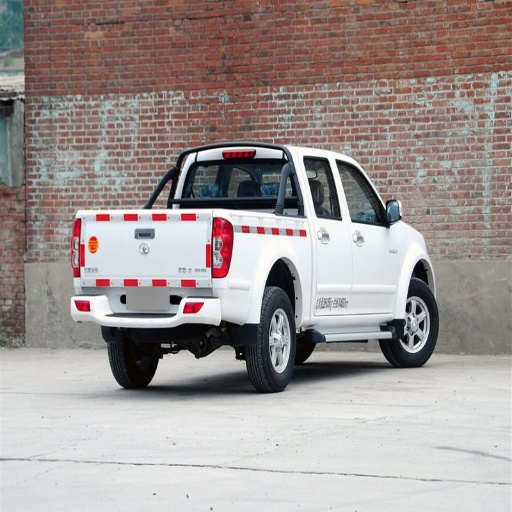back_right_door: (299, 154, 351, 316)
trunk: (89, 208, 310, 322)
